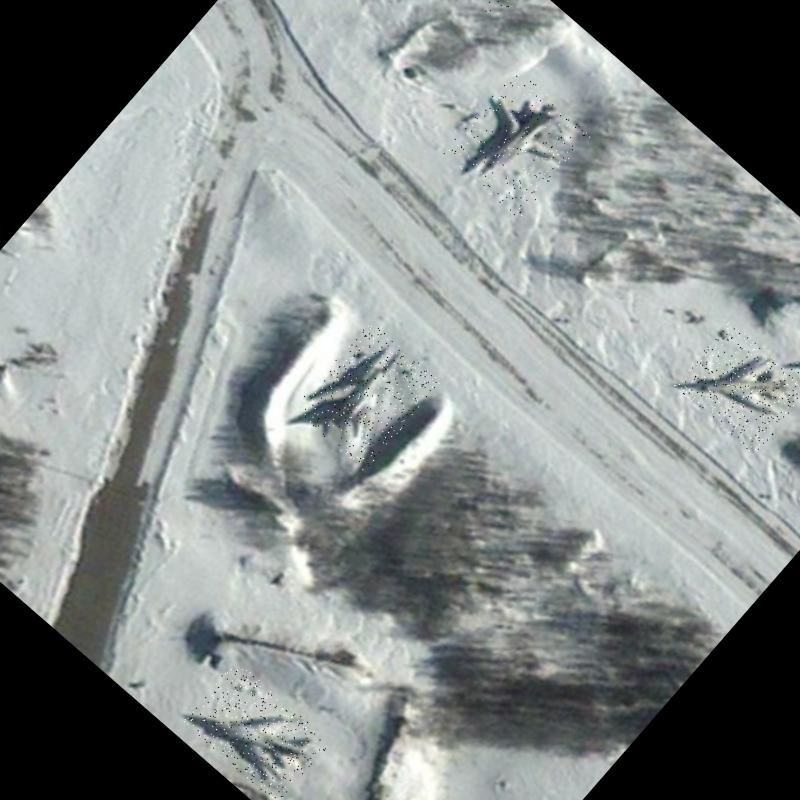A12: (442, 68, 592, 220), (292, 321, 442, 472), (181, 659, 331, 800), (673, 321, 800, 456)
